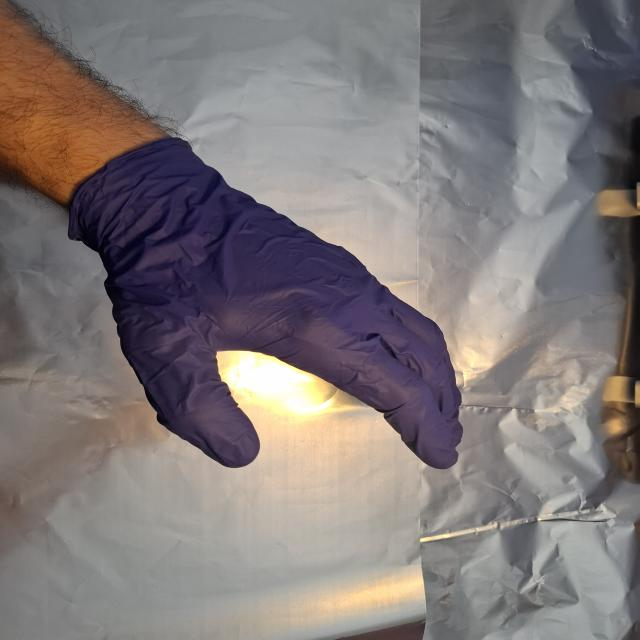glove_on: (61, 133, 468, 478)
